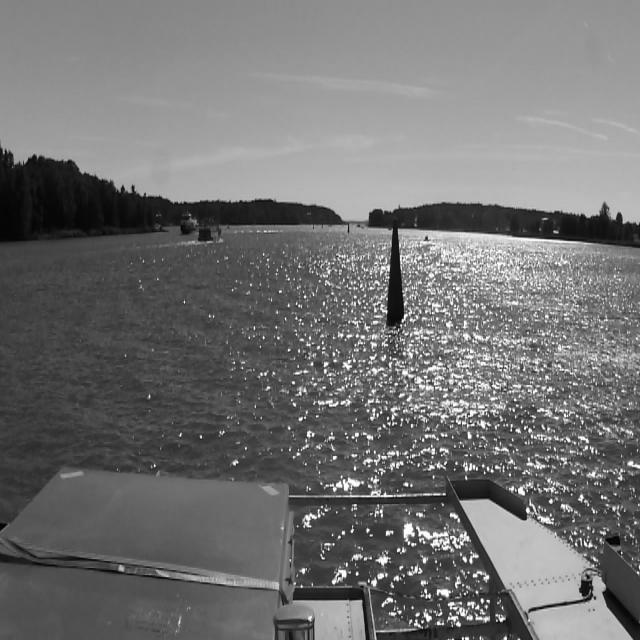buoy: (388, 226, 403, 322)
ship: (195, 219, 228, 248), (182, 212, 198, 235), (423, 239, 429, 245)
